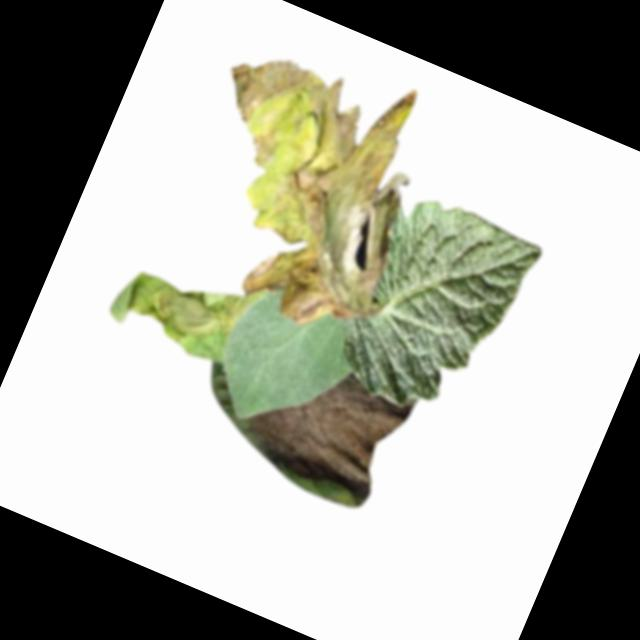Late_blight: (150, 21, 456, 347), (232, 341, 420, 509), (103, 235, 268, 374)
